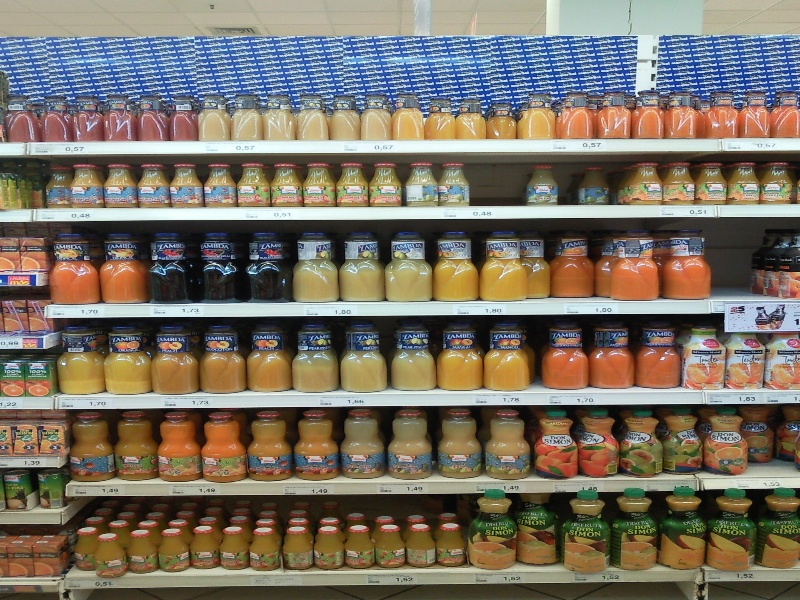juice: (19, 232, 54, 272), (25, 360, 56, 401), (11, 422, 40, 458), (1, 360, 27, 400), (40, 421, 68, 456)
